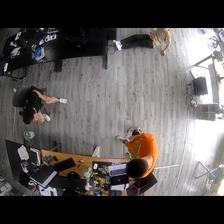fall: (112, 28, 173, 60)
normal: (12, 85, 69, 131), (115, 121, 160, 179)
